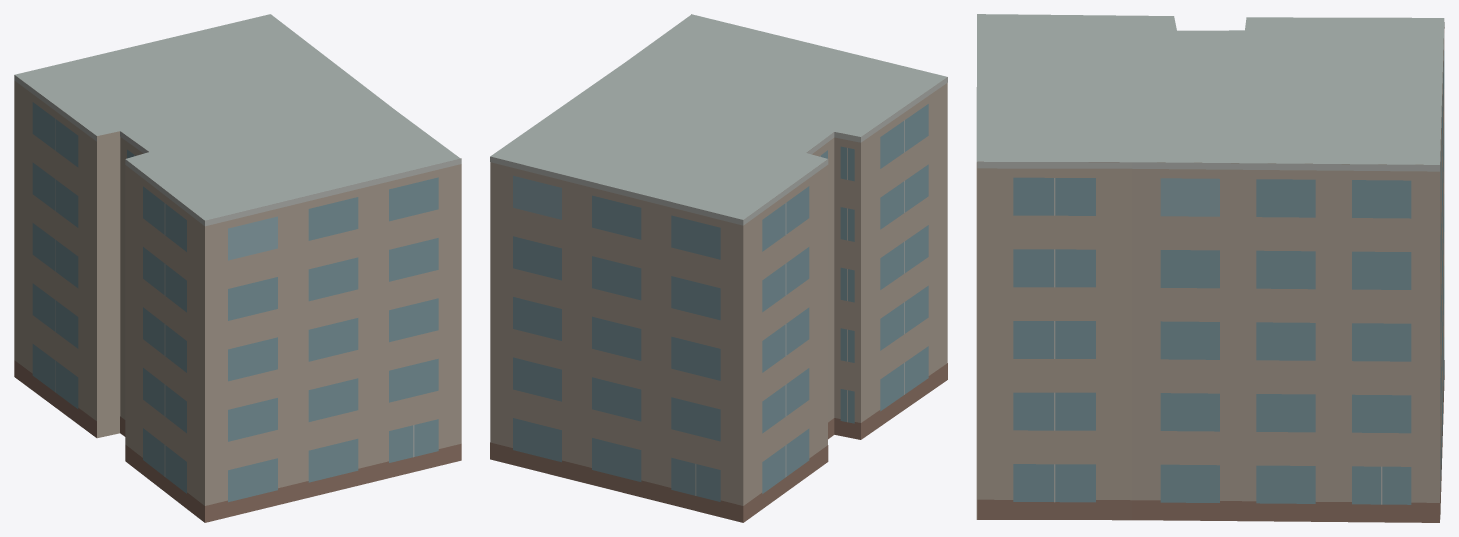
The model's file is survey-upis-32775382.glb.
3 views of the same model, side by side, from view 1: azimuth 30°, elevation 25°; view 2: azimuth 150°, elevation 25°; view 3: azimuth 270°, elevation 25° (orthographic). The views are drawn at different scales.
Parts seen in each view (by area): view 1: survey-upis-32775382.tmp; view 2: survey-upis-32775382.tmp; view 3: survey-upis-32775382.tmp.
Boxes of the visible parts, x1,y1,x2,y2 form: survey-upis-32775382.tmp: (14,14,461,522); survey-upis-32775382.tmp: (490,14,947,522); survey-upis-32775382.tmp: (976,14,1444,522).
Bounding box in the file's own units: 11.86 × 13.1 × 15.53.
